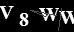8: (18, 12, 30, 27)
V: (1, 5, 15, 20)
W: (38, 7, 60, 22), (58, 10, 74, 25)
